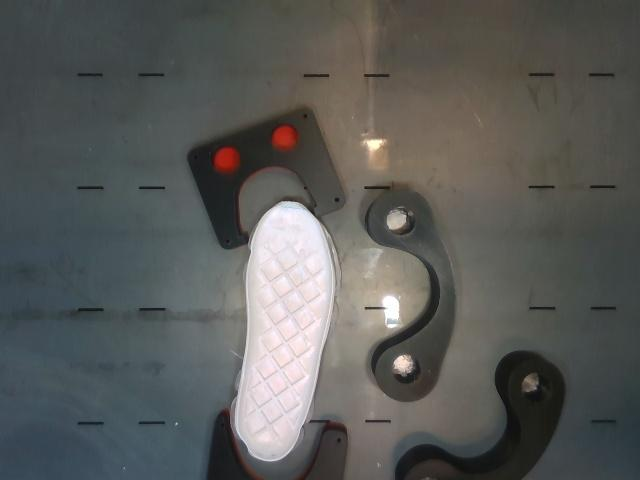shoes: (237, 203, 332, 461)
